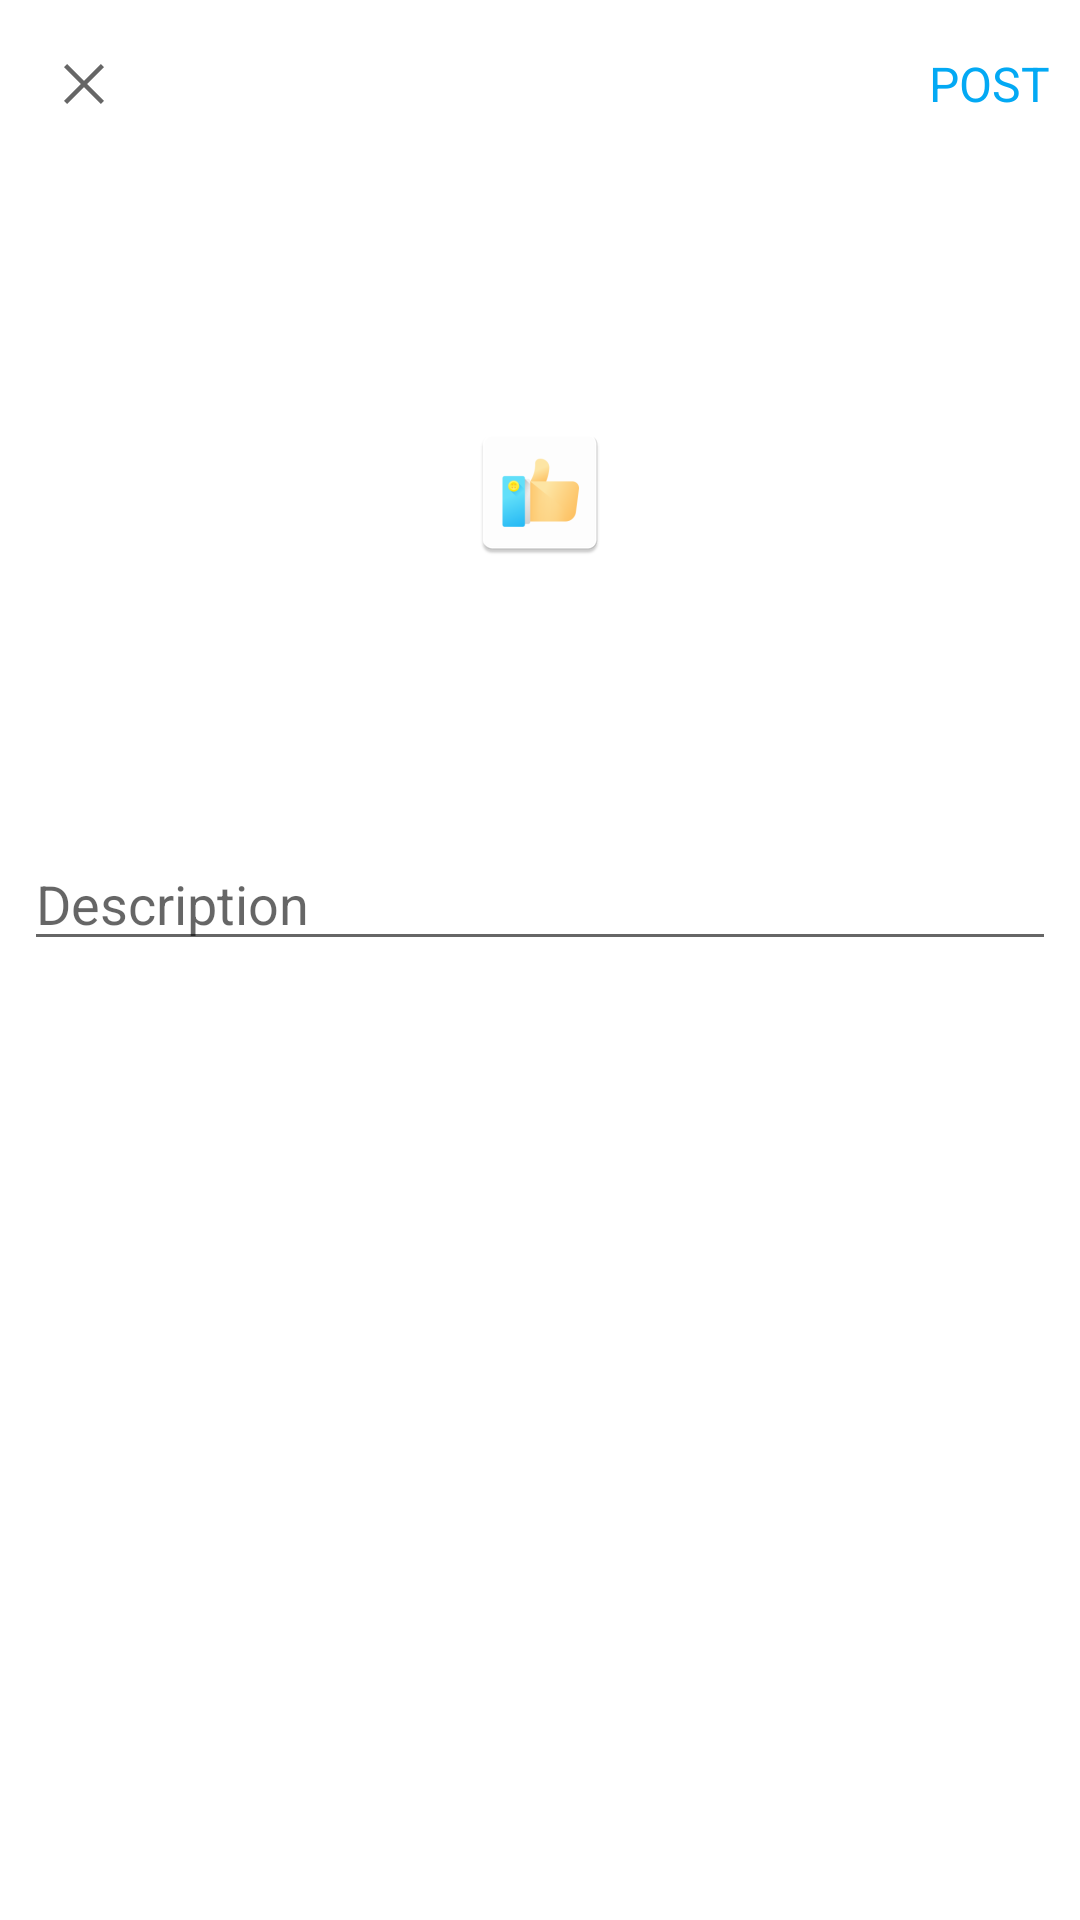

Screen size 1080px×1920px. Icon name, then its box in pixels as (x1, y1, x2, y2):
close: (64, 64, 104, 104)
